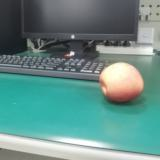apple: (100, 61, 144, 103)
